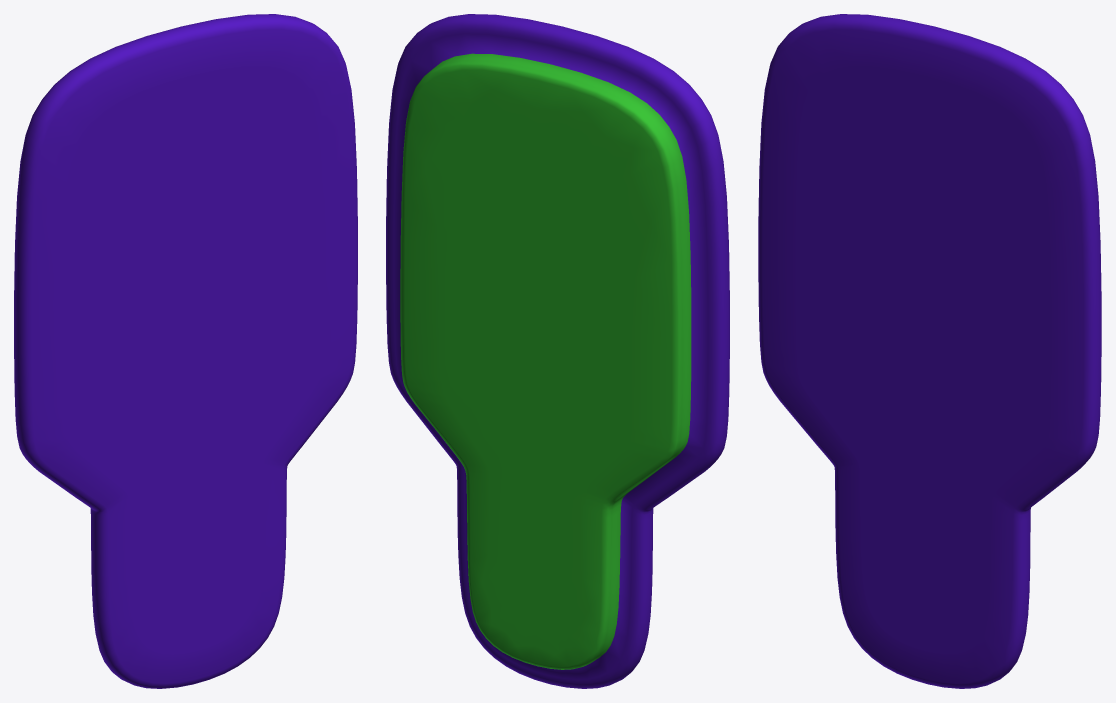
The model's file is Sign1.fbx.
The picture shows the model from 3 angles, left to right: view 1: azimuth 30°, elevation 25°; view 2: azimuth 150°, elevation 25°; view 3: azimuth 330°, elevation 25°; orthographic projection.
Parts seen in each view (by area): view 1: Sign; view 2: Sign; view 3: Sign.
Part boxes in pixels (<box>): Sign: <box>14,14,357,688</box>; Sign: <box>386,14,729,688</box>; Sign: <box>758,14,1101,688</box>.
Size of the model in its own units: 72.91 by 9.89 by 135.
